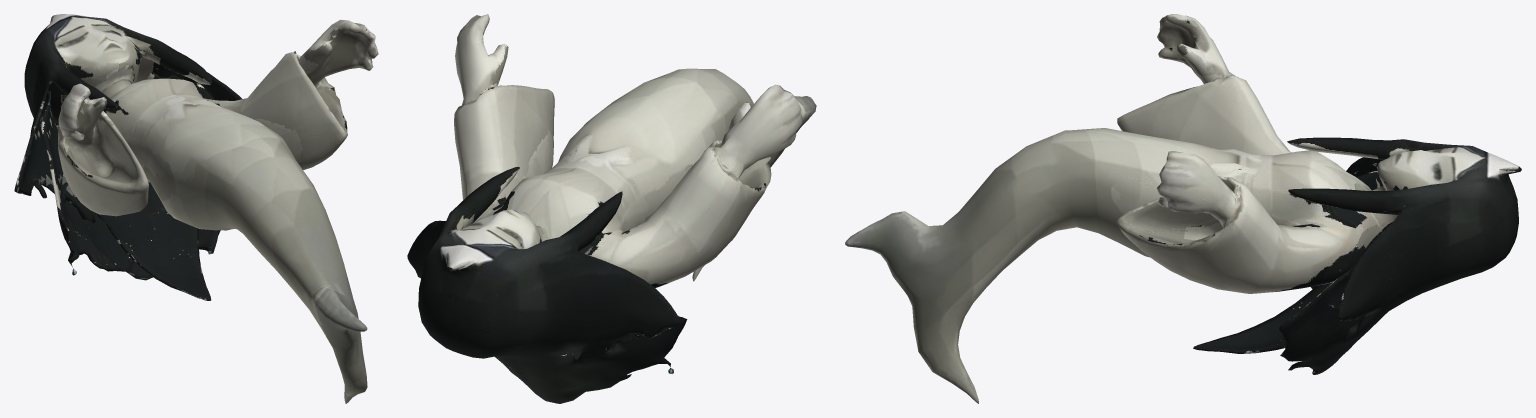
Rendered from Yurei.glb.
3 views of the same model, side by side, from view 1: azimuth 30°, elevation 25°; view 2: azimuth 150°, elevation 25°; view 3: azimuth 270°, elevation 25° (orthographic). The views are drawn at different scales.
Parts seen in each view (by area): view 1: Retopo_Yurei_RemeshSrc; view 2: Retopo_Yurei_RemeshSrc; view 3: Retopo_Yurei_RemeshSrc.
Boxes of the visible parts, box(x1,y1,x2,y2) form: Retopo_Yurei_RemeshSrc: box(14, 14, 378, 403); Retopo_Yurei_RemeshSrc: box(407, 14, 816, 403); Retopo_Yurei_RemeshSrc: box(845, 14, 1521, 403).
Size of the model in its own units: 1.08 by 0.9642 by 1.94.
1 material, 1 textured.
